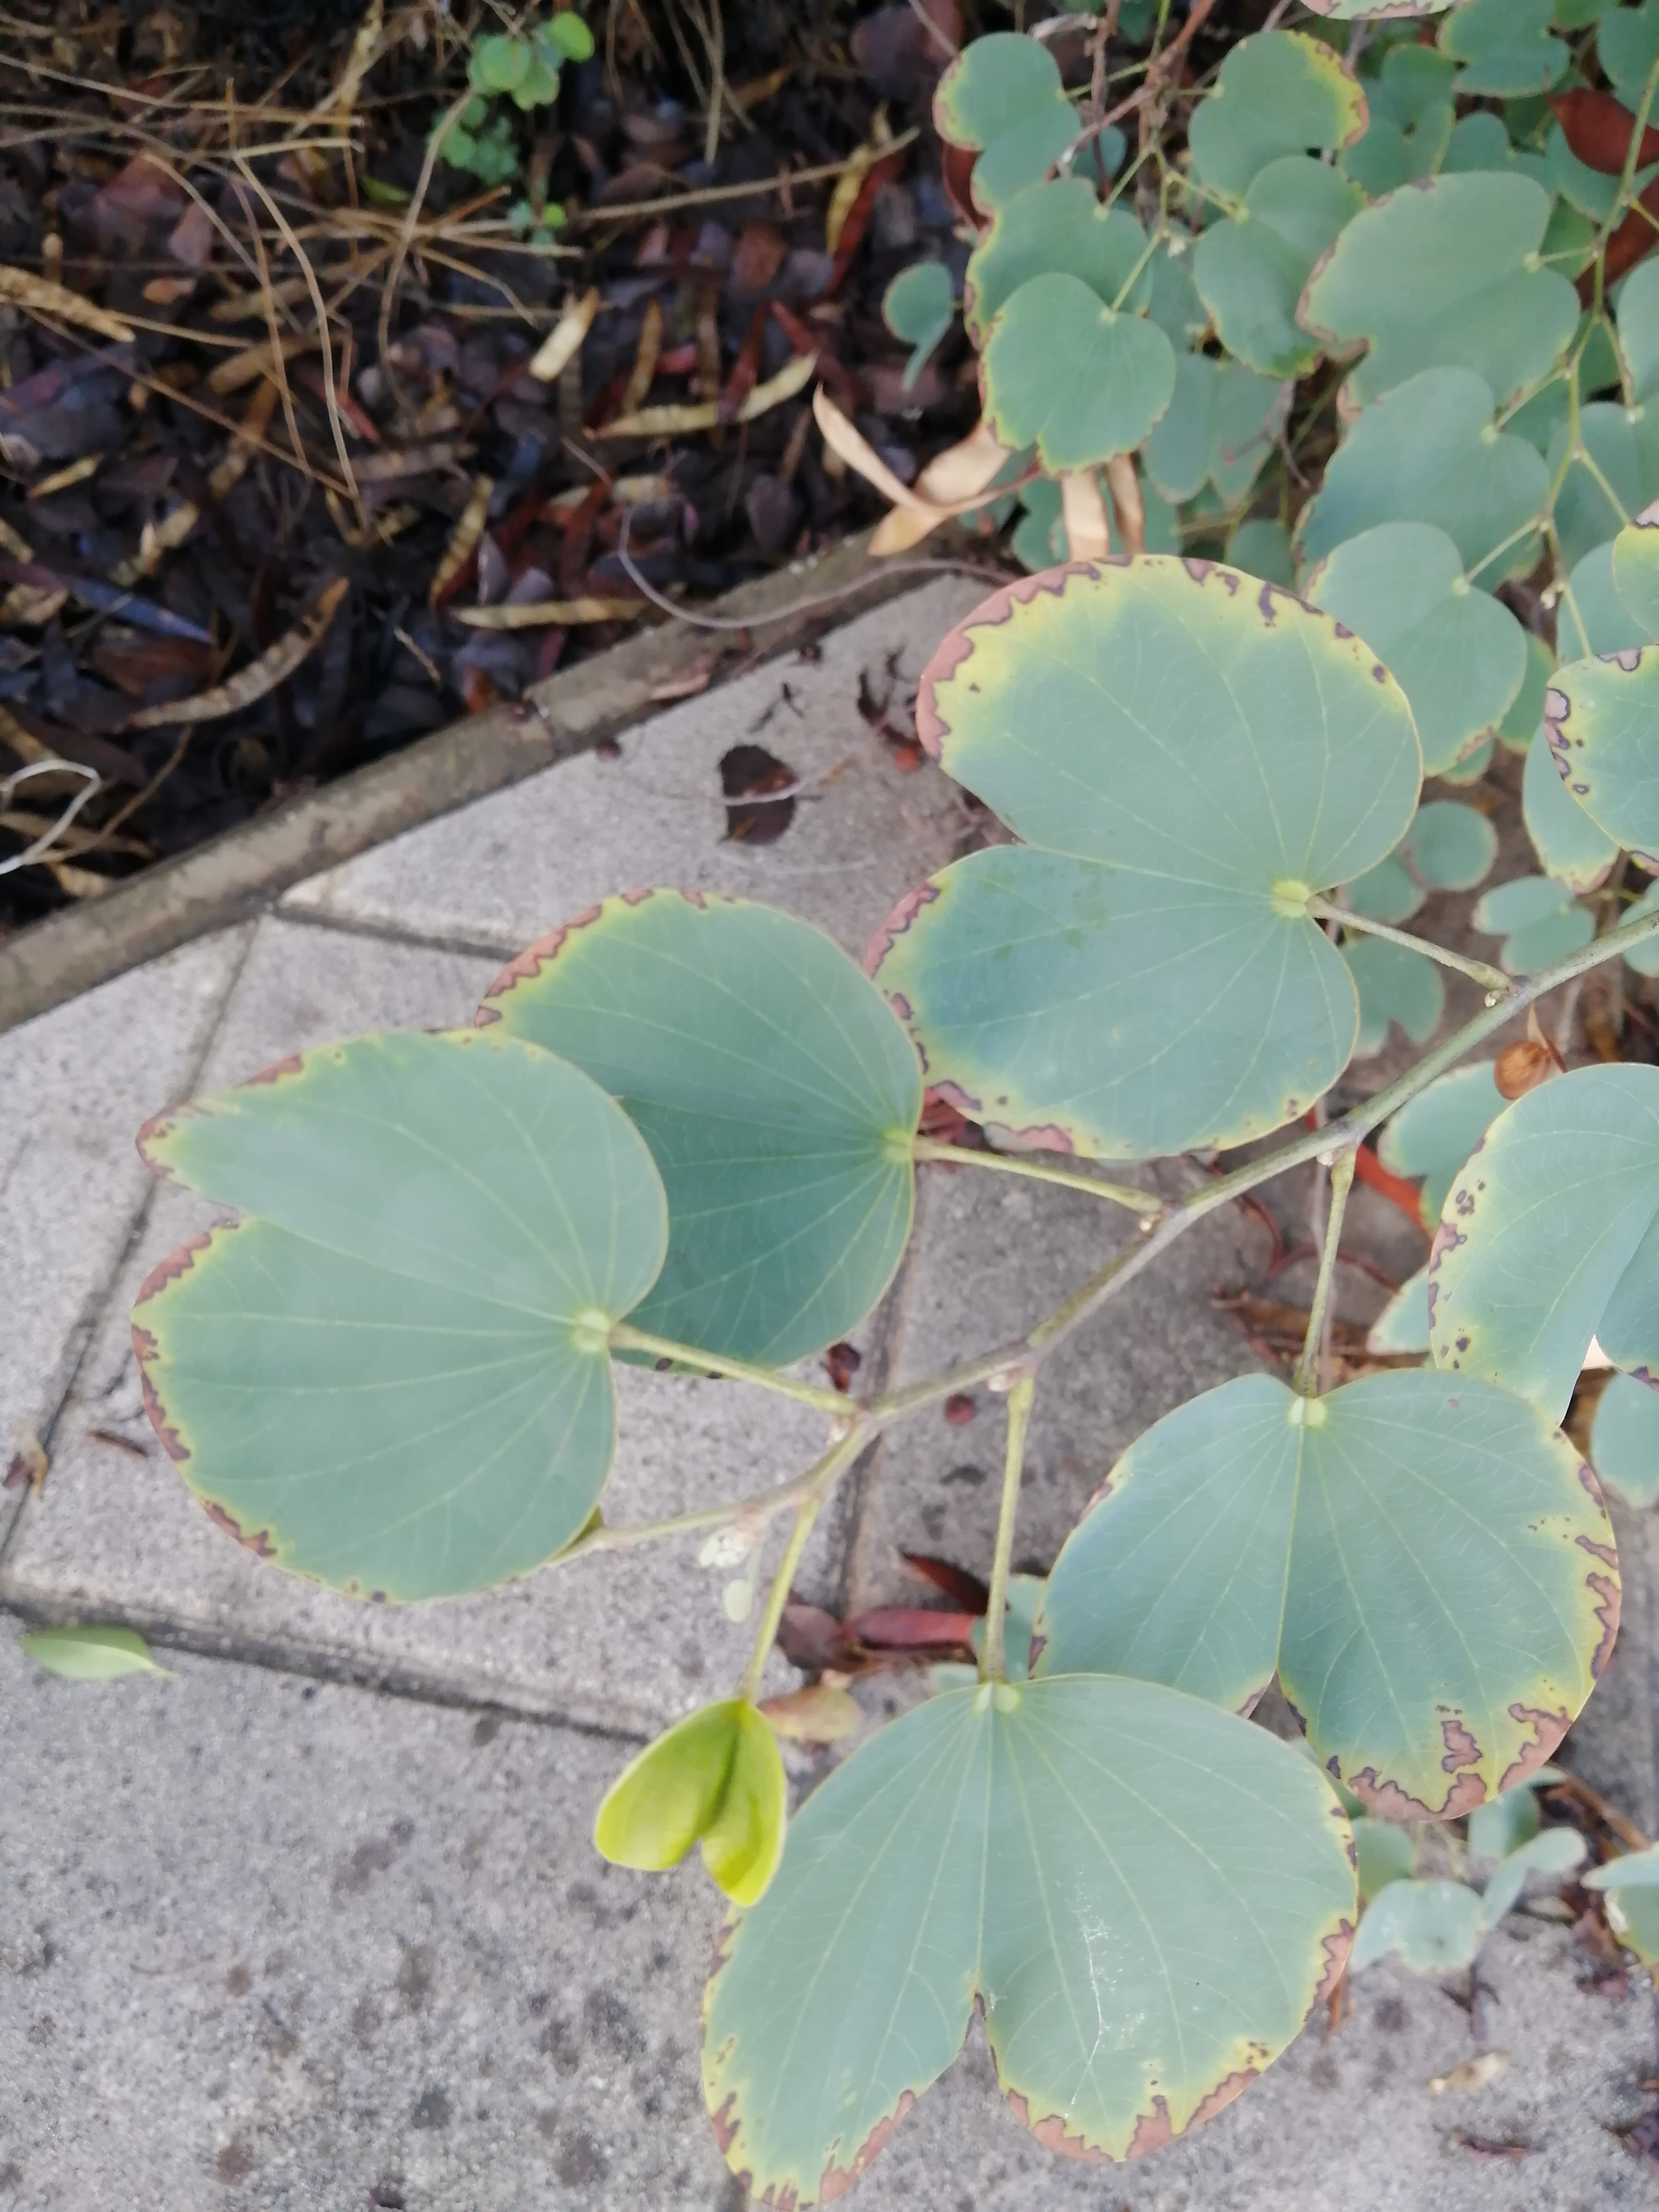nothealthy: (873, 489, 1453, 1174), (87, 1010, 666, 1639), (777, 1658, 1398, 2156), (1103, 1294, 1643, 1827), (394, 887, 924, 1383), (1398, 1078, 1659, 1418), (1307, 152, 1588, 439), (1537, 563, 1659, 930)
